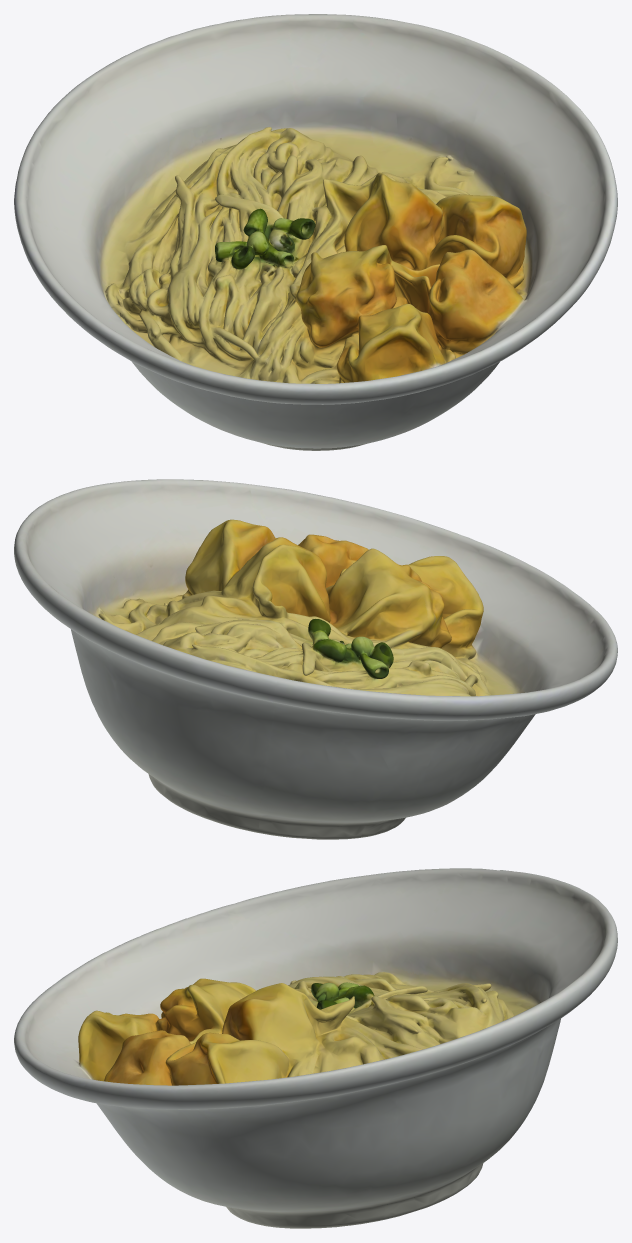
The model's file is wonton-soup-noodles.glb.
3 views of the same model, one above another, from view 1: azimuth 30°, elevation 25°; view 2: azimuth 150°, elevation 25°; view 3: azimuth 270°, elevation 25° (orthographic).
Visible parts, largest first — view 1: tripo_node_e98eb532-2dd1-4f2c-aac5-8adb788357bf; view 2: tripo_node_e98eb532-2dd1-4f2c-aac5-8adb788357bf; view 3: tripo_node_e98eb532-2dd1-4f2c-aac5-8adb788357bf.
Part boxes in pixels (bbox=[...]): tripo_node_e98eb532-2dd1-4f2c-aac5-8adb788357bf: bbox=[14, 14, 617, 450]; tripo_node_e98eb532-2dd1-4f2c-aac5-8adb788357bf: bbox=[14, 479, 617, 839]; tripo_node_e98eb532-2dd1-4f2c-aac5-8adb788357bf: bbox=[14, 868, 617, 1228].
Bounding box in the file's own units: 0.9967 × 0.5069 × 0.9964.
Materials: 1 (1 with a texture image).
